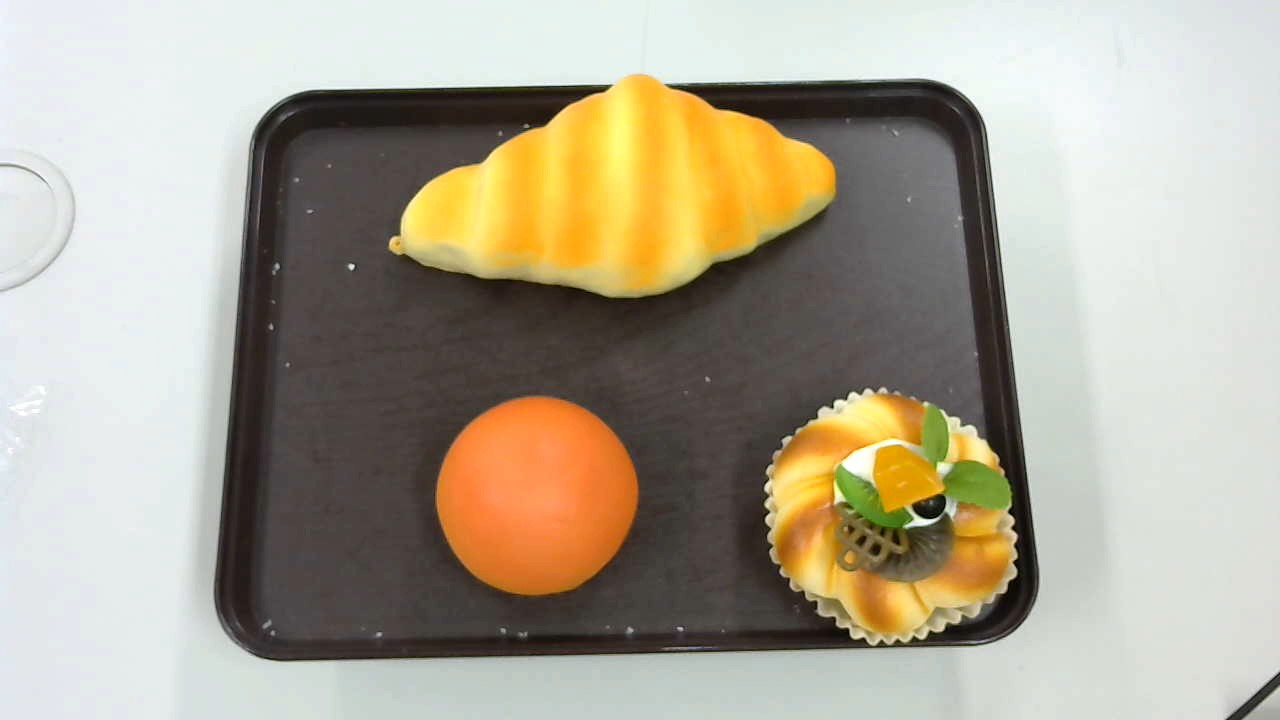bun: (436, 395, 638, 595)
croissant: (388, 74, 838, 300)
fruit tart: (763, 386, 1019, 644)
